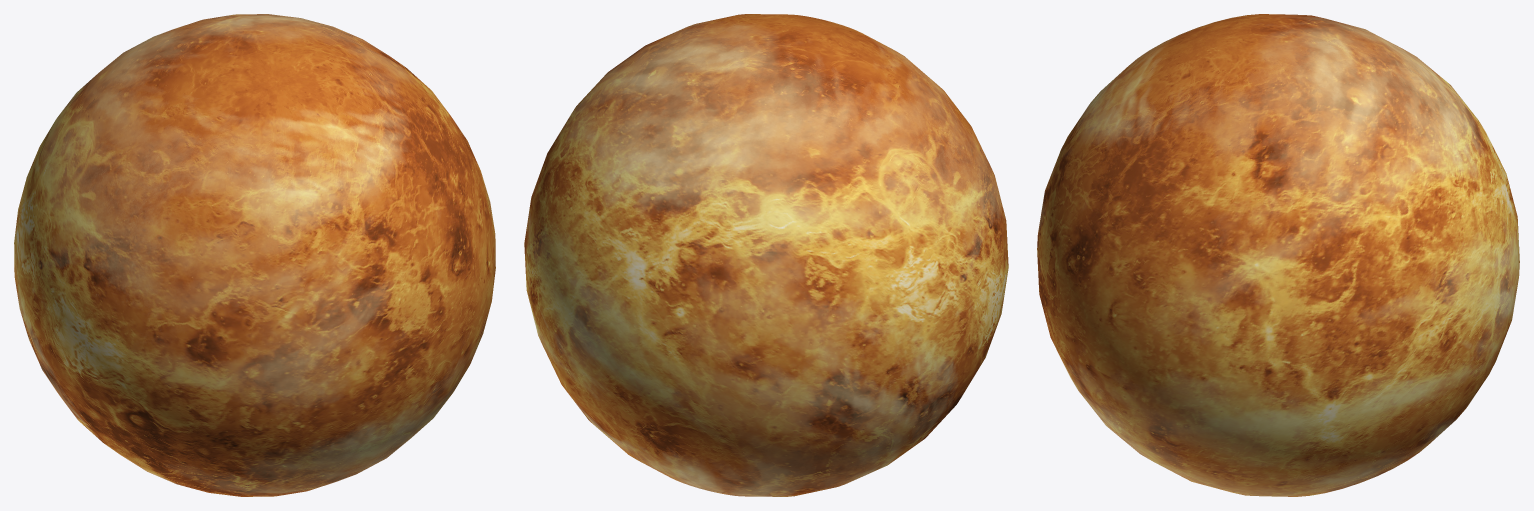
Rendered from venus.obj.
The picture shows the model from 3 angles, left to right: view 1: azimuth 30°, elevation 25°; view 2: azimuth 150°, elevation 25°; view 3: azimuth 270°, elevation 25°; orthographic projection.
Parts seen in each view (by area): view 1: Venus.009; view 2: Venus.009; view 3: Venus.009.
Part boxes in pixels (box(x1,y1,x2,y2)): Venus.009: box(14, 14, 495, 496); Venus.009: box(524, 14, 1008, 496); Venus.009: box(1037, 14, 1519, 496).
Size of the model in its own units: 1.87 by 1.88 by 1.87.
